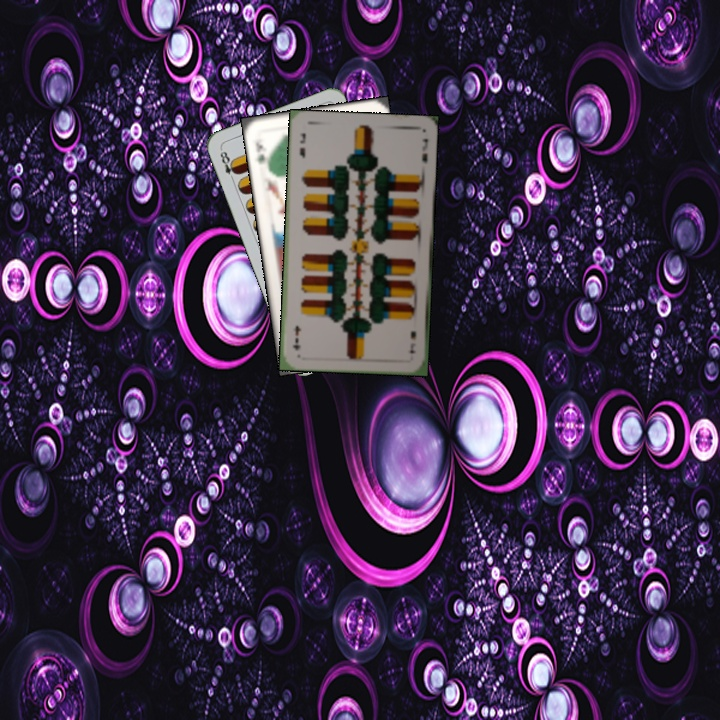E7: (295, 129, 308, 161), (405, 327, 419, 356)
E8: (216, 145, 240, 185)
GK: (252, 134, 270, 167)
